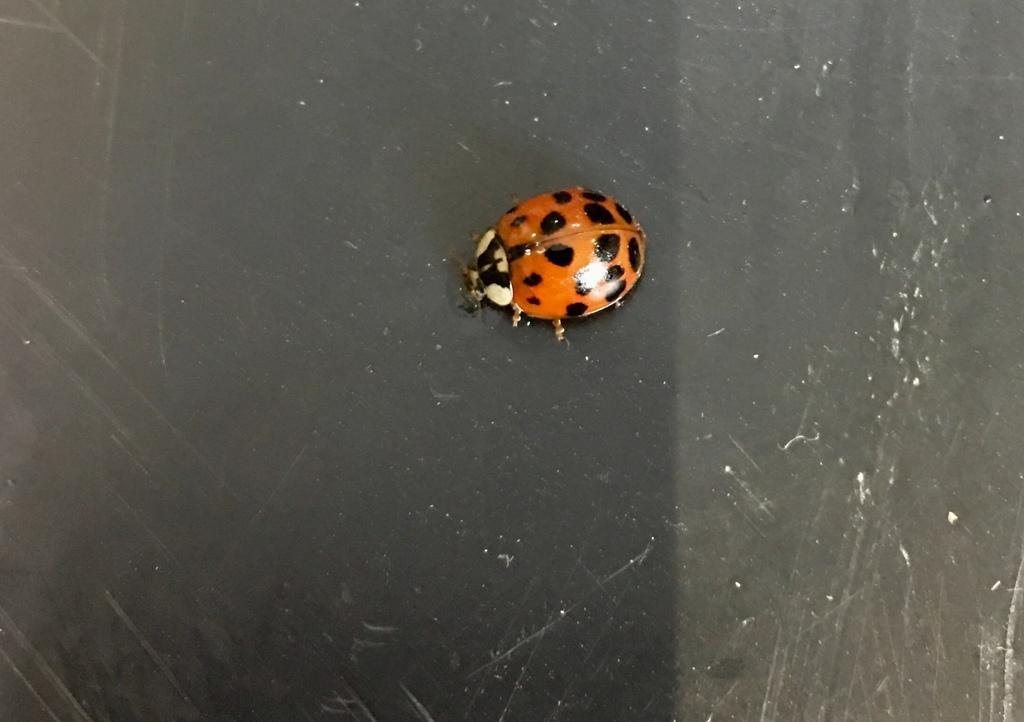ladybug: (453, 183, 655, 345)
